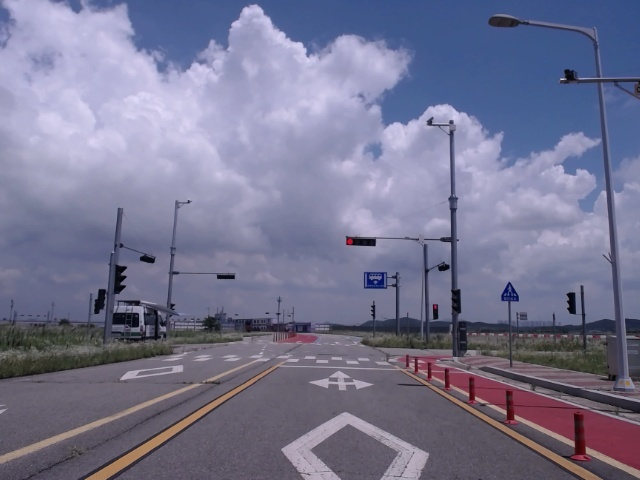red_4: (346, 238, 376, 246)
